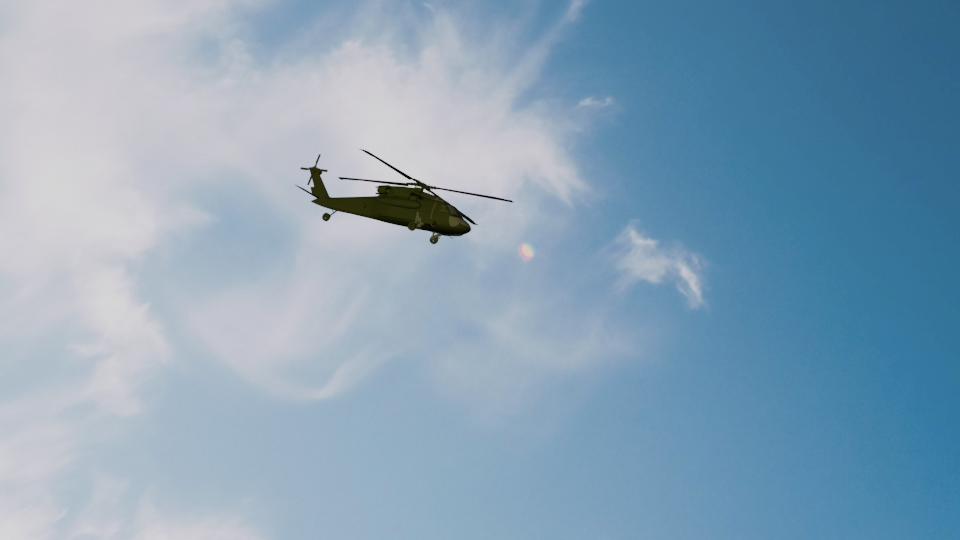heli: (297, 149, 511, 245)
